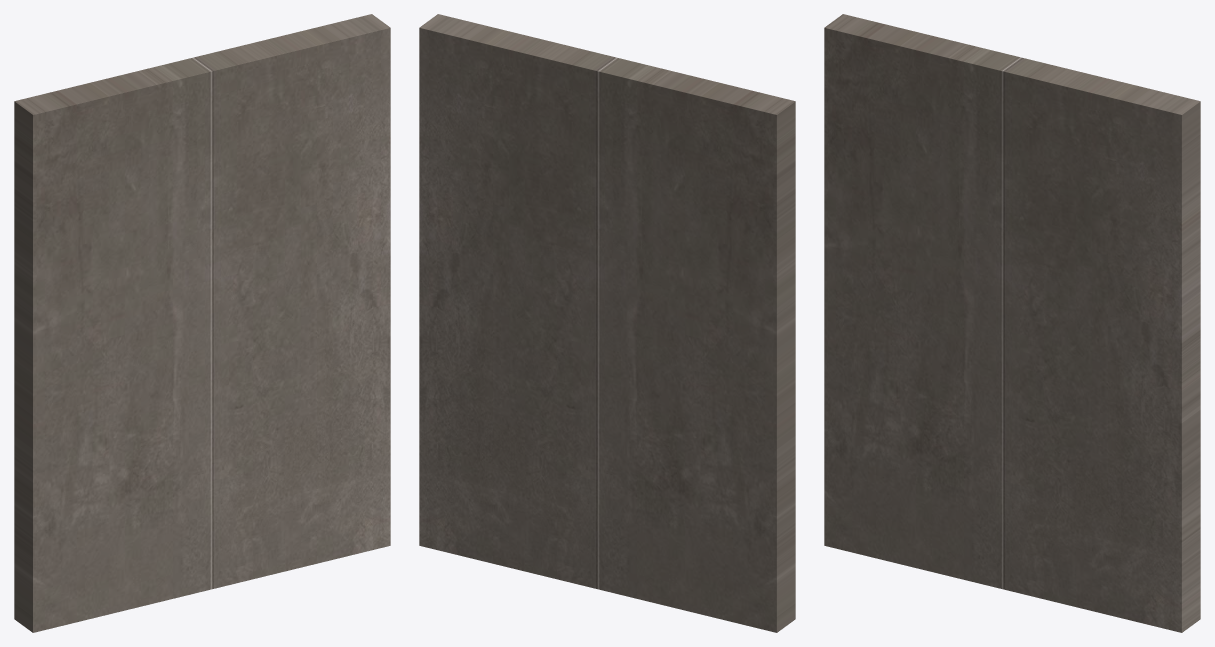
3 renders of one model, left to right at view 1: azimuth 30°, elevation 25°; view 2: azimuth 150°, elevation 25°; view 3: azimuth 330°, elevation 25°, orthographic.
Parts seen in each view (by area): view 1: Wall_Plane.010; view 2: Wall_Plane.010; view 3: Wall_Plane.010.
Boxes of the visible parts, x1=… form: Wall_Plane.010: x1=14, y1=14, x2=390, y2=632; Wall_Plane.010: x1=419, y1=14, x2=795, y2=632; Wall_Plane.010: x1=824, y1=14, x2=1200, y2=632.
Bounding box in the file's own units: 2.17 × 3 × 0.1973.
1 material, 1 textured.
